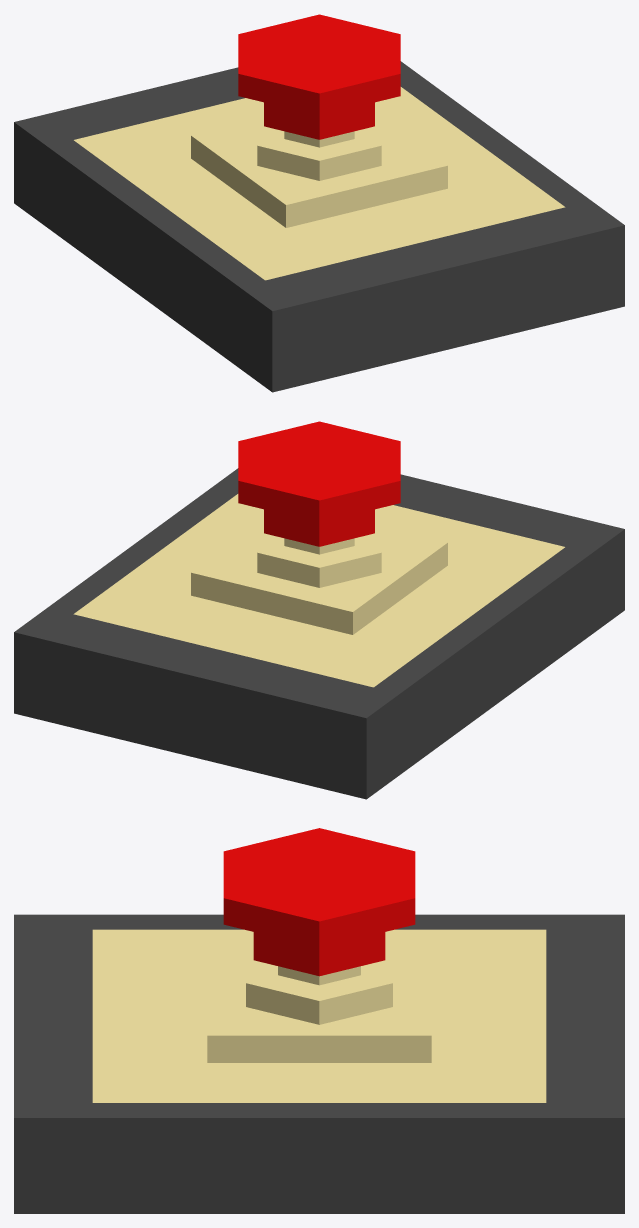
File: AlarmButton_01.fbx
The picture shows the model from 3 angles, top to bottom: view 1: azimuth 30°, elevation 25°; view 2: azimuth 150°, elevation 25°; view 3: azimuth 270°, elevation 25°; orthographic projection. The views are drawn at different scales.
Parts seen in each view (by area): view 1: SM_Prop_AlarmButton_01; view 2: SM_Prop_AlarmButton_01; view 3: SM_Prop_AlarmButton_01.
Part boxes in pixels (bbox=[...]): SM_Prop_AlarmButton_01: bbox=[14, 14, 624, 392]; SM_Prop_AlarmButton_01: bbox=[14, 421, 624, 799]; SM_Prop_AlarmButton_01: bbox=[14, 828, 624, 1213].
Size of the model in its own units: 0.2532 by 0.1379 by 0.3216.
